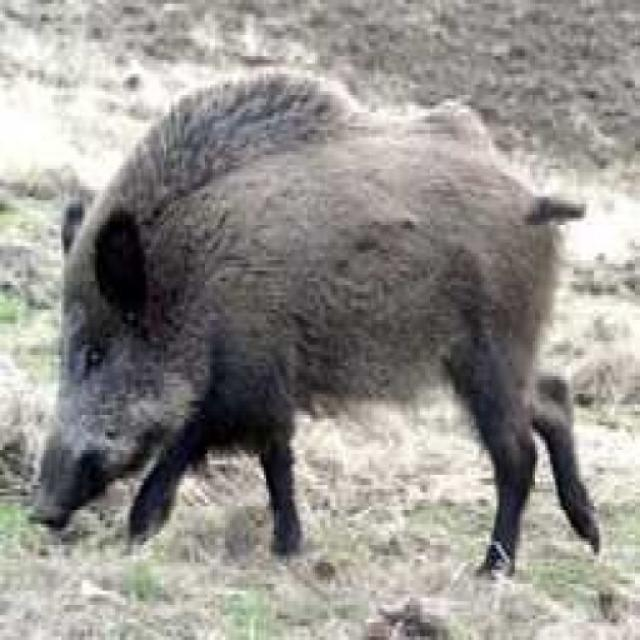pig: (18, 44, 618, 595)
